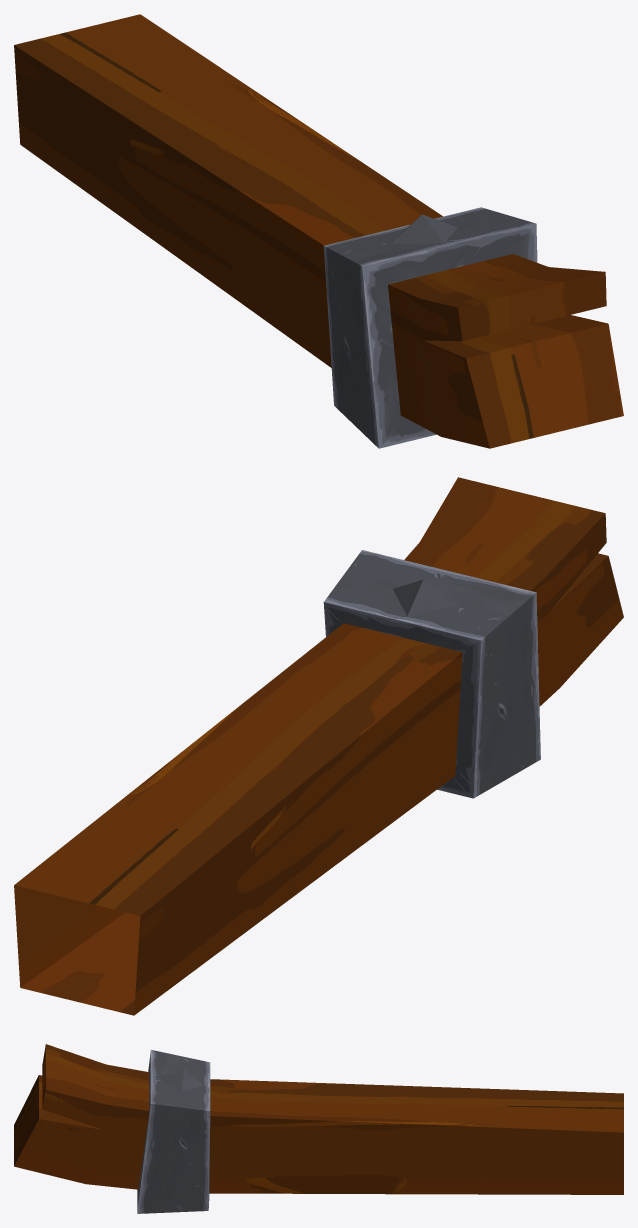
File: SM_BLD_beam_small_v02_01.fbx
3 views of the same model, one above another, from view 1: azimuth 30°, elevation 25°; view 2: azimuth 150°, elevation 25°; view 3: azimuth 270°, elevation 25° (orthographic). The views are drawn at different scales.
Visible parts, largest first — view 1: SM_BLD_beam_small_v02_01; view 2: SM_BLD_beam_small_v02_01; view 3: SM_BLD_beam_small_v02_01.
Boxes of the visible parts, x1,y1,x2,y2 form: SM_BLD_beam_small_v02_01: (14,14,623,448); SM_BLD_beam_small_v02_01: (14,477,623,1015); SM_BLD_beam_small_v02_01: (14,1044,623,1213).
Bounding box in the file's own units: 66.24 × 69.89 × 316.
